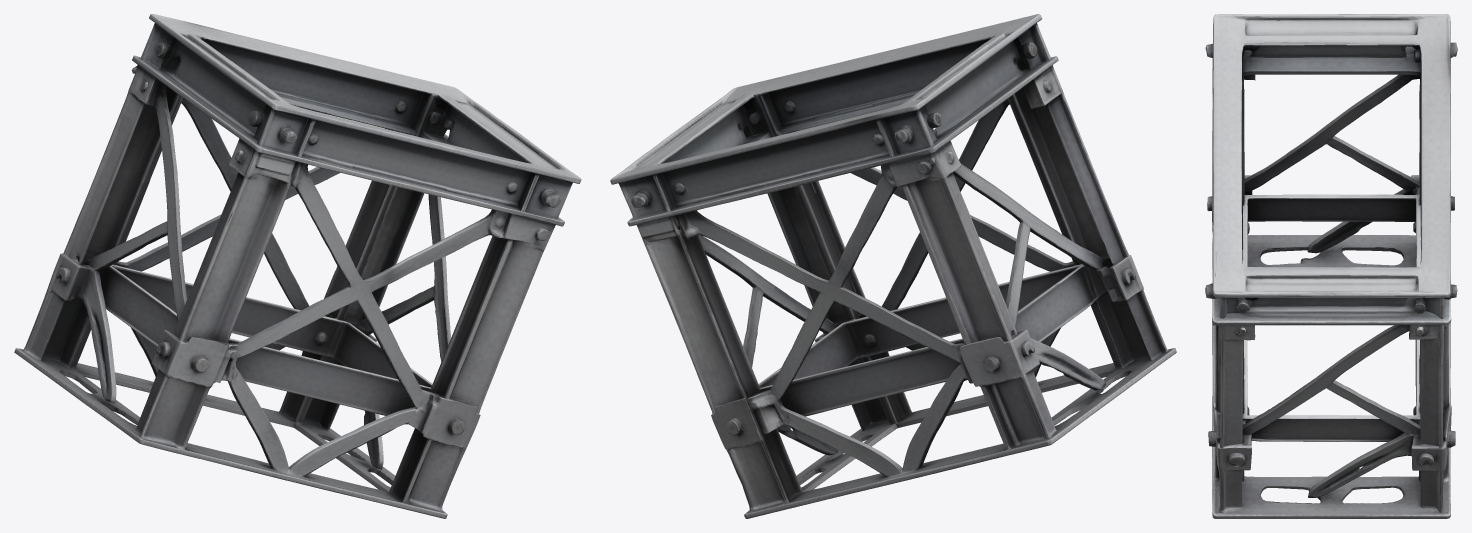
File: niobio.fbx
3 views of the same model, side by side, from view 1: azimuth 30°, elevation 25°; view 2: azimuth 150°, elevation 25°; view 3: azimuth 270°, elevation 25° (orthographic). The views are drawn at different scales.
Parts seen in each view (by area): view 1: geometry_0.001; view 2: geometry_0.001; view 3: geometry_0.001.
Part boxes in pixels (x1,y1,x2,y2): geometry_0.001: (14,14,581,518); geometry_0.001: (610,14,1176,518); geometry_0.001: (1205,14,1457,518).
Size of the model in its own units: 0.422 by 0.4145 by 0.2218.
1 material, 1 textured.
